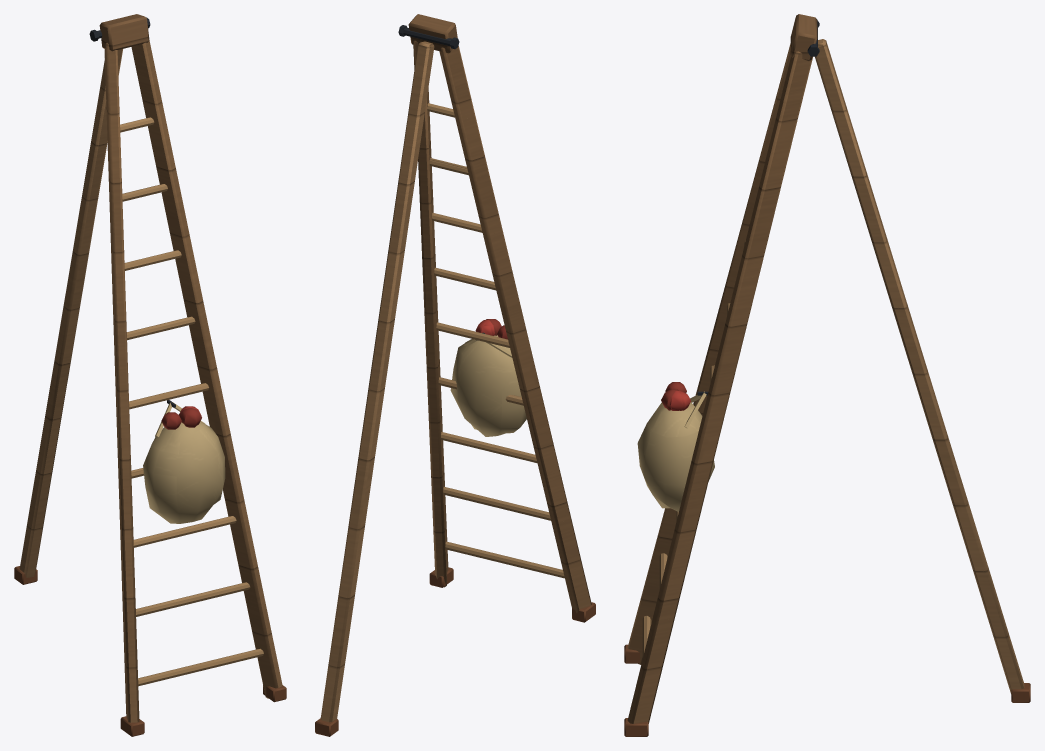
The model's file is orchard_ladder.glb.
The picture shows the model from 3 angles, left to right: view 1: azimuth 30°, elevation 25°; view 2: azimuth 150°, elevation 25°; view 3: azimuth 270°, elevation 25°; orthographic projection. The views are drawn at different scales.
Visible parts, largest first — view 1: orchard_ladder; view 2: orchard_ladder; view 3: orchard_ladder.
Part boxes in pixels (box(x1,y1,x2,y2)): orchard_ladder: box(14, 14, 286, 736); orchard_ladder: box(315, 14, 595, 736); orchard_ladder: box(624, 14, 1030, 736).
Bounding box in the file's own units: 0.79 × 3.09 × 1.68.
Materials: 9 (9 with a texture image).
